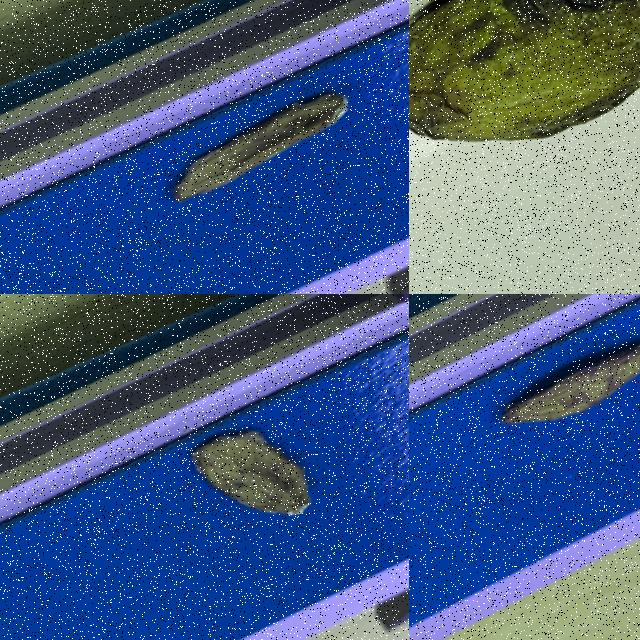Fine_cocoabeans: (409, 0, 639, 279)
Flat_cocoabeans: (104, 33, 408, 257), (101, 366, 373, 608), (437, 294, 639, 515)
